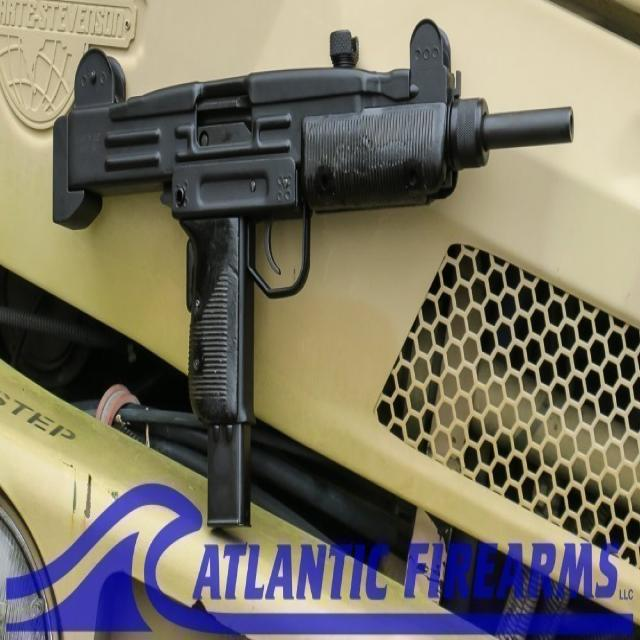SMG: (52, 19, 576, 532)
